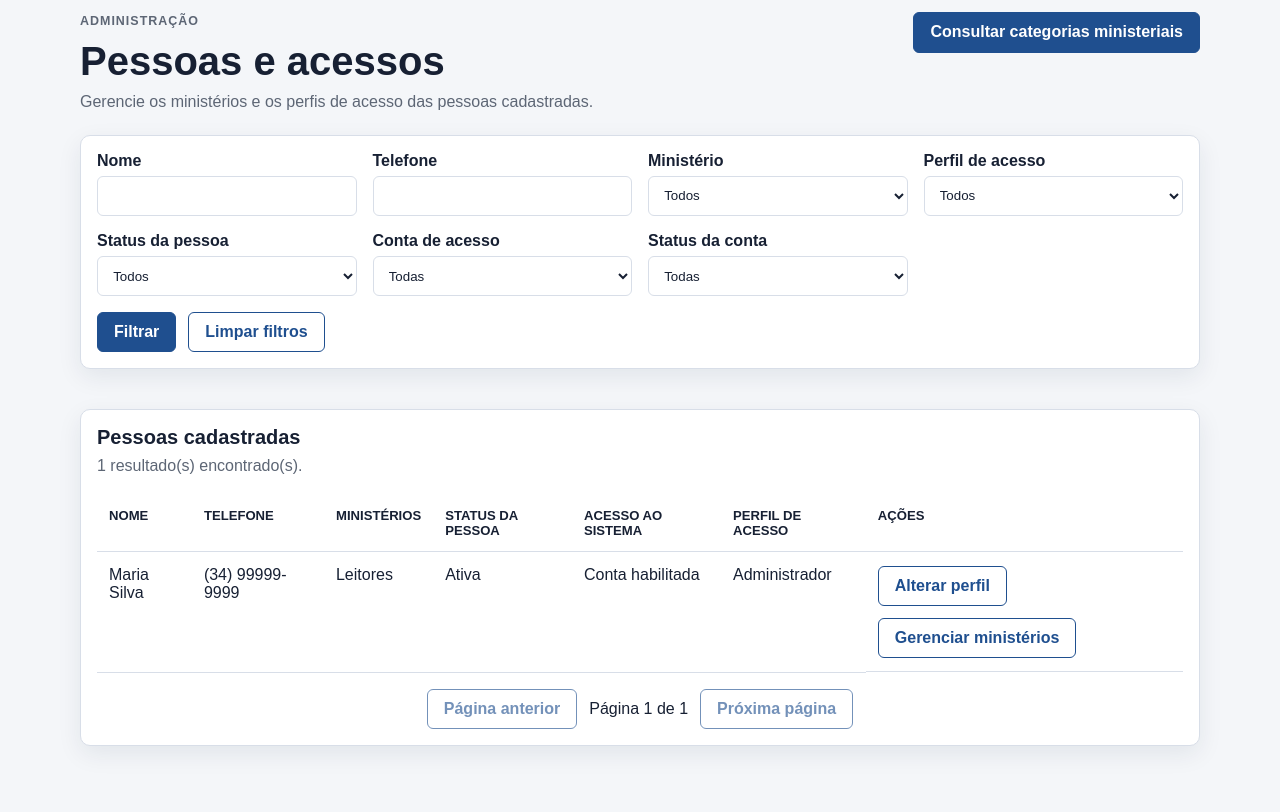
AdminUserManagementComponent › accountExists=false constraint › should clear and disable role and accountEnabled when accountExists is set to "Sem conta"
The width and height of the screenshot is (1280, 812).
Select "Administrador" in the dropdown with id "user-role" at {"x": 1053, "y": 196}, box [924,176,1183,216]
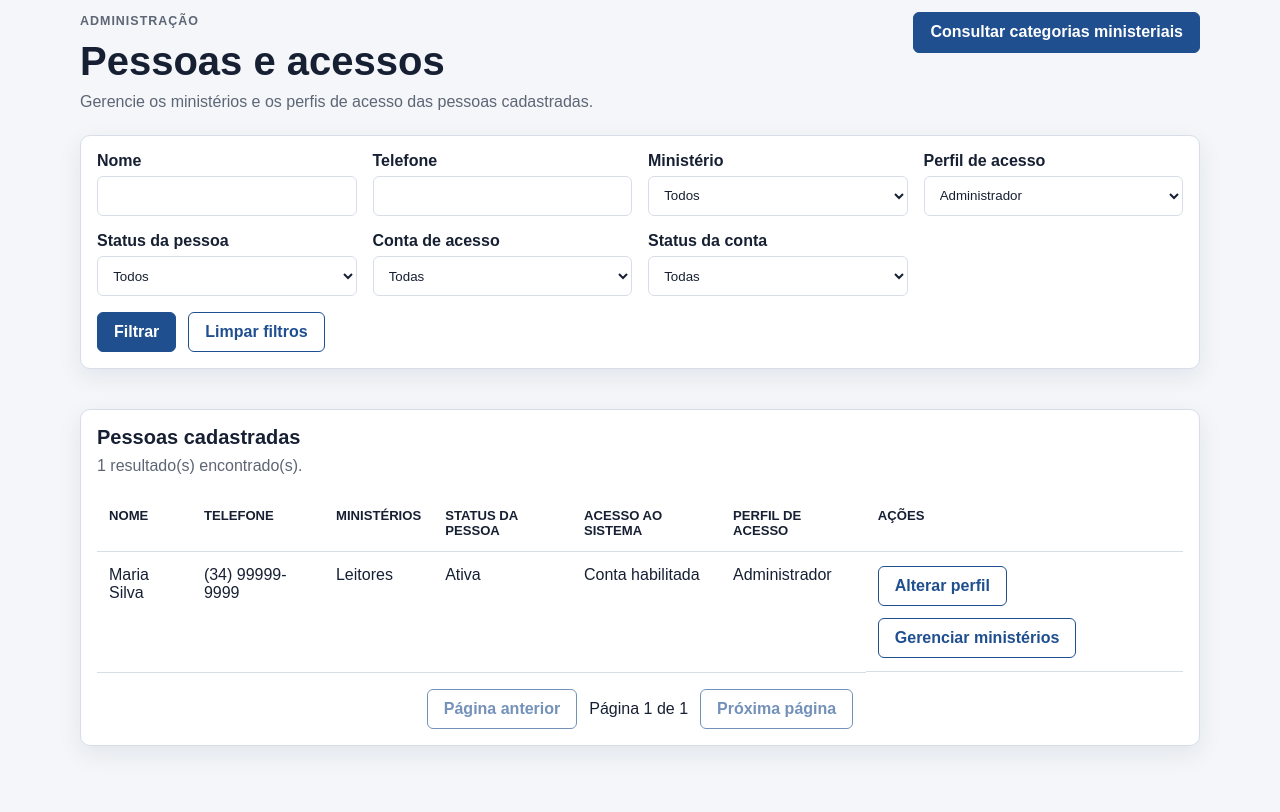
Select "Habilitadas" in the dropdown with id "user-account-enabled" at {"x": 778, "y": 276}, box [648,256,908,296]
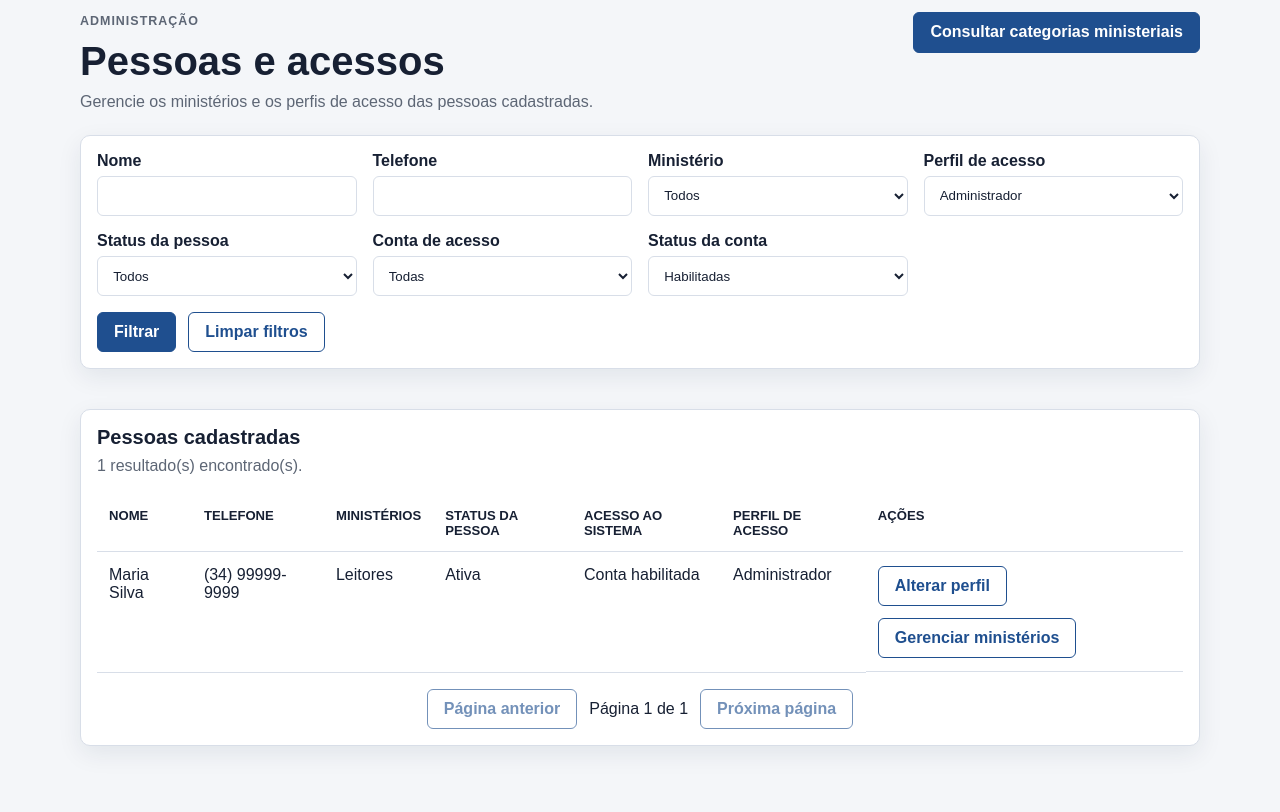
Select "Sem conta" in the dropdown with id "user-account-exists" at {"x": 502, "y": 276}, box [372,256,632,296]
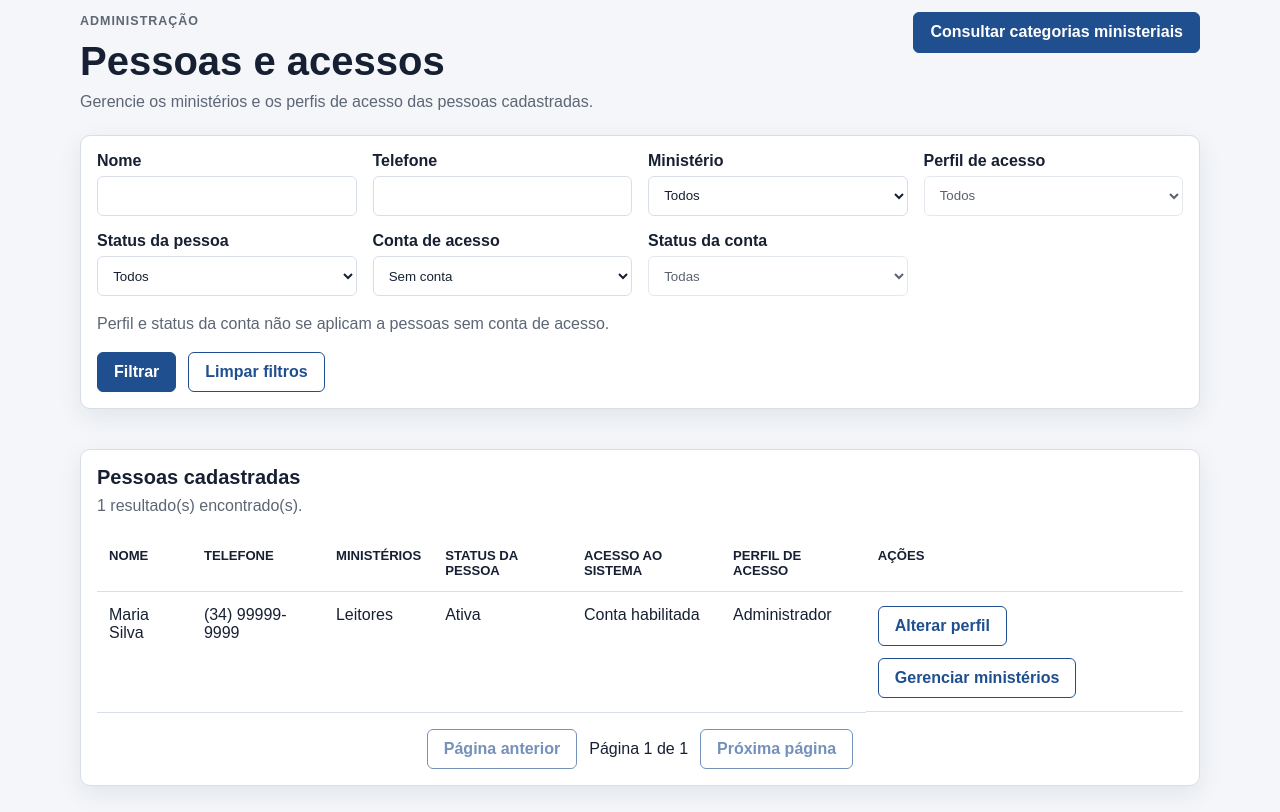
Result: the dropdown with id "user-role" is disabled at [924,176,1183,216]
Result: the dropdown with id "user-account-enabled" is disabled at [648,256,908,296]
